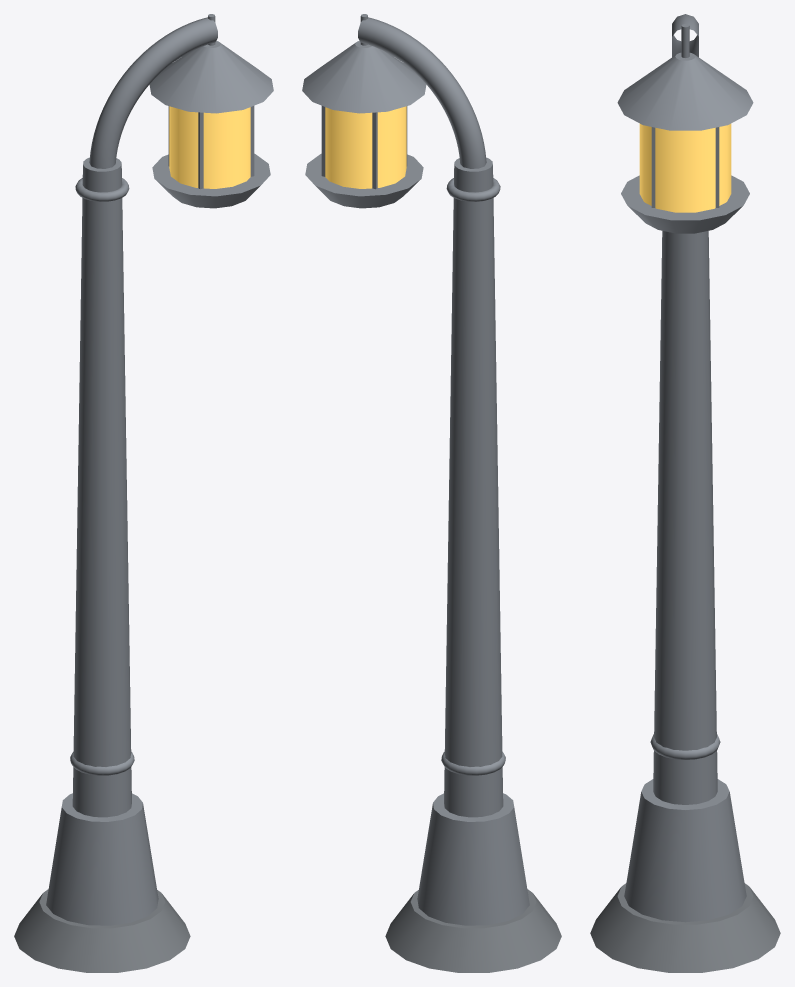
Rendered from prop_lamppost.glb.
3 views of the same model, side by side, from view 1: azimuth 30°, elevation 25°; view 2: azimuth 150°, elevation 25°; view 3: azimuth 270°, elevation 25° (orthographic). The views are drawn at different scales.
Parts seen in each view (by area): view 1: lamp_post, lamp_plinth, lamp_base, lamp_hood, lamp_glass, lamp_arm, lamp_foot, lamp_collar_low, lamp_collar_high; view 2: lamp_post, lamp_plinth, lamp_base, lamp_hood, lamp_glass, lamp_arm, lamp_foot, lamp_collar_low, lamp_collar_high; view 3: lamp_post, lamp_plinth, lamp_base, lamp_hood, lamp_glass, lamp_foot, lamp_collar_low, lamp_arm.
Boxes of the visible parts, box(x1,y1,x2,y2) form: lamp_post: box(72, 157, 131, 817); lamp_plinth: box(46, 793, 158, 925); lamp_base: box(14, 889, 190, 972); lamp_hood: box(149, 41, 273, 113); lamp_glass: box(169, 106, 250, 188); lamp_arm: box(89, 17, 217, 168); lamp_foot: box(152, 153, 270, 208); lamp_collar_low: box(70, 751, 134, 775); lamp_collar_high: box(75, 178, 129, 201); lamp_post: box(444, 157, 503, 817); lamp_plinth: box(417, 793, 529, 925); lamp_base: box(385, 889, 561, 972); lamp_hood: box(302, 41, 426, 113); lamp_glass: box(325, 106, 406, 188); lamp_arm: box(358, 17, 486, 168); lamp_foot: box(305, 153, 423, 208); lamp_collar_low: box(441, 751, 505, 775); lamp_collar_high: box(446, 178, 500, 201); lamp_post: box(653, 231, 717, 804); lamp_plinth: box(624, 779, 746, 922); lamp_base: box(590, 883, 780, 972); lamp_hood: box(617, 52, 753, 130); lamp_glass: box(639, 123, 731, 212); lamp_foot: box(621, 175, 749, 233); lamp_collar_low: box(650, 734, 720, 759); lamp_arm: box(672, 14, 698, 57).
Bounding box in the file's own units: 0.8707 × 3.13 × 0.56.
